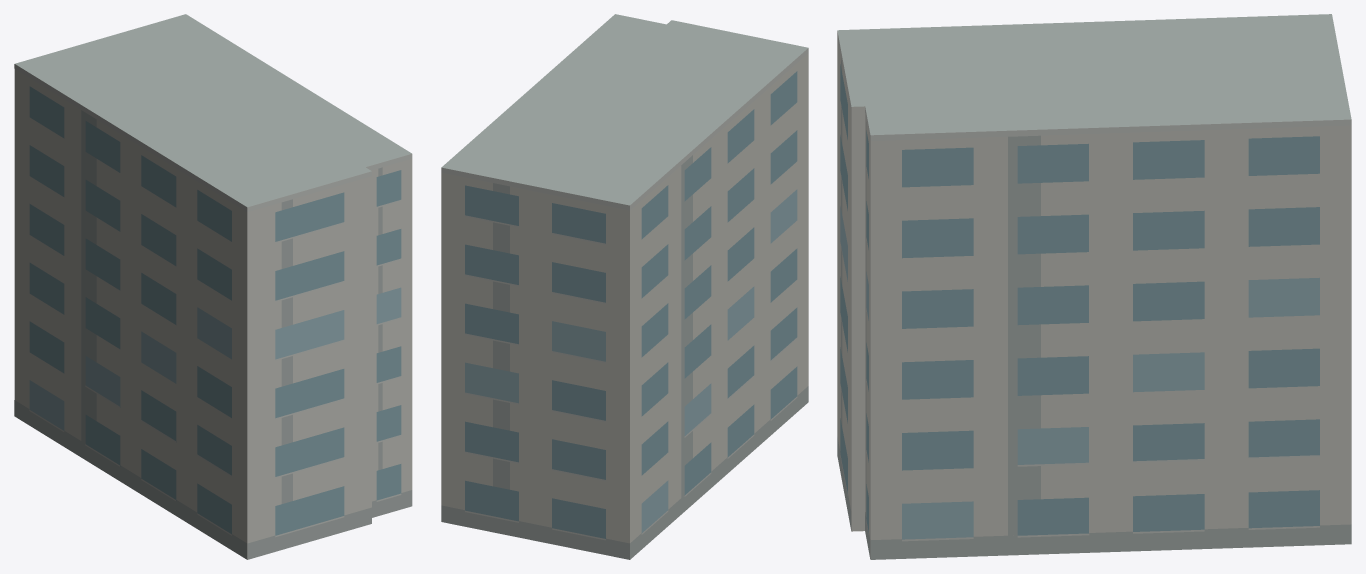
File: survey-upis-32699747.glb
3 views of the same model, side by side, from view 1: azimuth 30°, elevation 25°; view 2: azimuth 150°, elevation 25°; view 3: azimuth 270°, elevation 25° (orthographic). The views are drawn at different scales.
Parts seen in each view (by area): view 1: survey-upis-32699747.tmp; view 2: survey-upis-32699747.tmp; view 3: survey-upis-32699747.tmp.
Part boxes in pixels (x1=…): survey-upis-32699747.tmp: x1=14, y1=14, x2=412, y2=559; survey-upis-32699747.tmp: x1=441, y1=14, x2=808, y2=559; survey-upis-32699747.tmp: x1=837, y1=14, x2=1351, y2=559.
Size of the model in its own units: 10.48 by 17.1 by 18.78.
